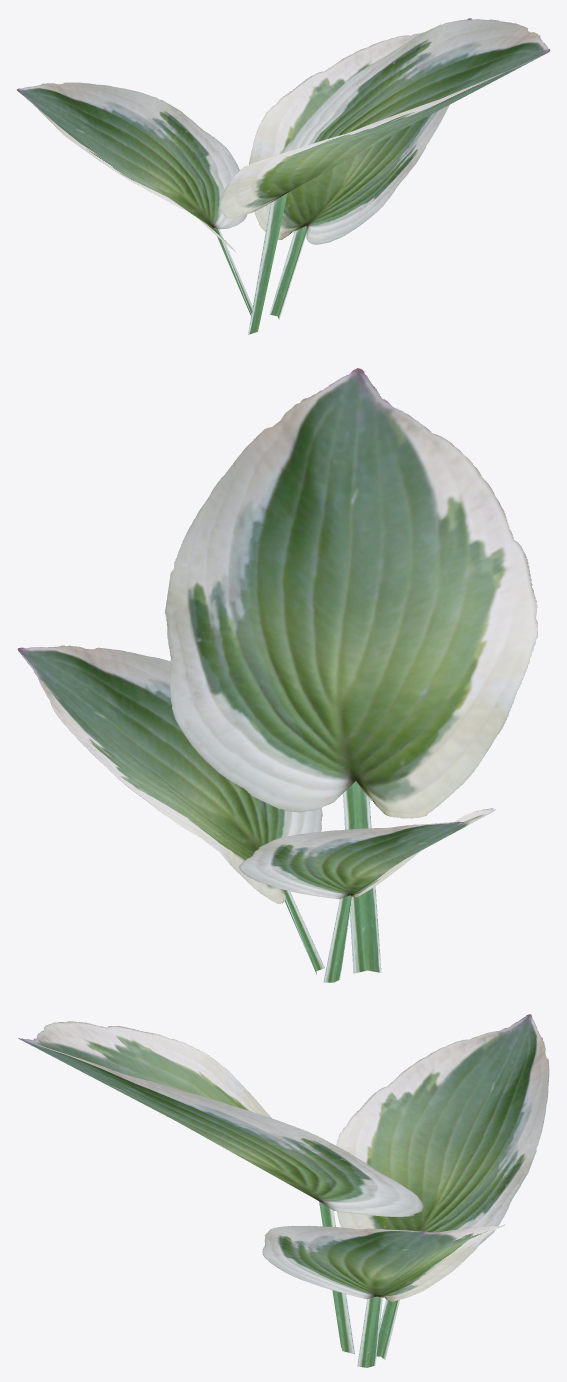
The model's file is plant_small_wg_04B.fbx.
3 renders of one model, top to bottom at view 1: azimuth 30°, elevation 25°; view 2: azimuth 150°, elevation 25°; view 3: azimuth 270°, elevation 25°, orthographic. The views are drawn at different scales.
Parts seen in each view (by area): view 1: plant_small_wg_04B; view 2: plant_small_wg_04B; view 3: plant_small_wg_04B.
Boxes of the visible parts, box(x1,y1,x2,y2) form: plant_small_wg_04B: box(17, 18, 550, 334); plant_small_wg_04B: box(17, 368, 537, 982); plant_small_wg_04B: box(18, 1014, 549, 1367).
Bounding box in the file's own units: 71.04 × 57.87 × 71.07.
